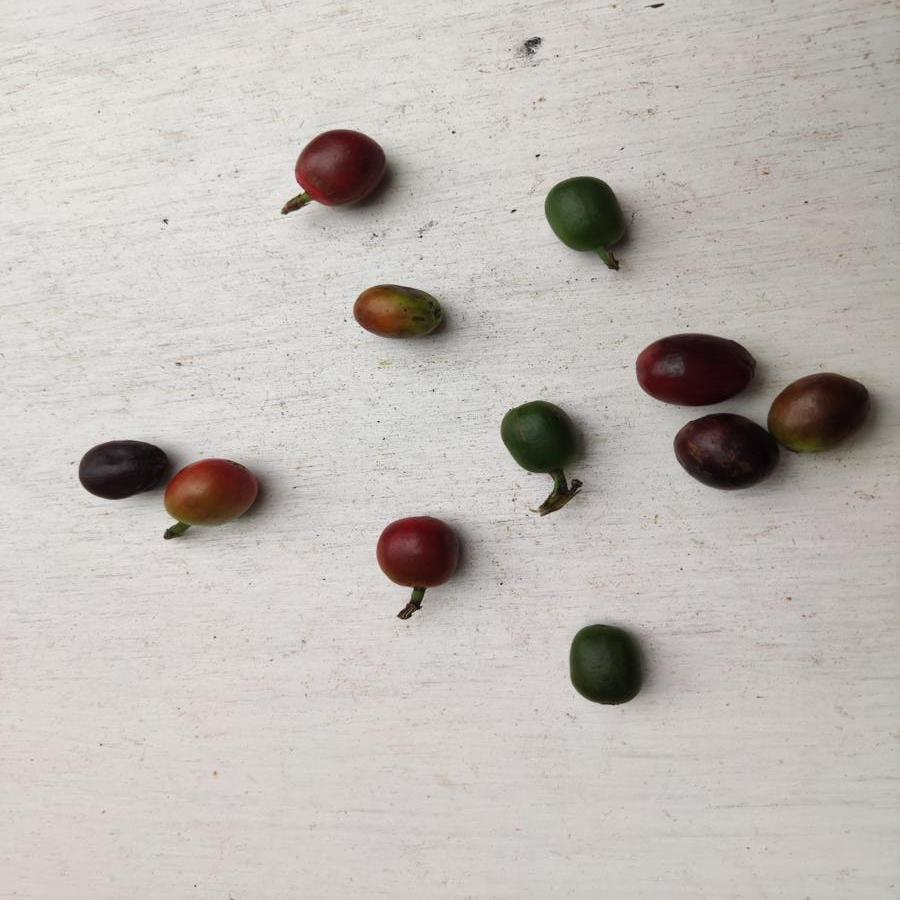Inmaduro: (565, 619, 642, 708), (542, 174, 625, 253), (500, 399, 577, 472)
Pinton: (768, 370, 876, 458), (165, 458, 265, 531), (351, 280, 449, 346)
Sobremaduro: (667, 411, 783, 498), (629, 332, 761, 406), (289, 128, 385, 207), (373, 512, 461, 590), (75, 437, 165, 501)
